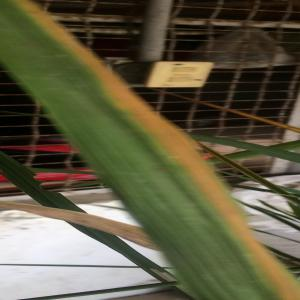Bacterial_Blight: (117, 151, 252, 299)
